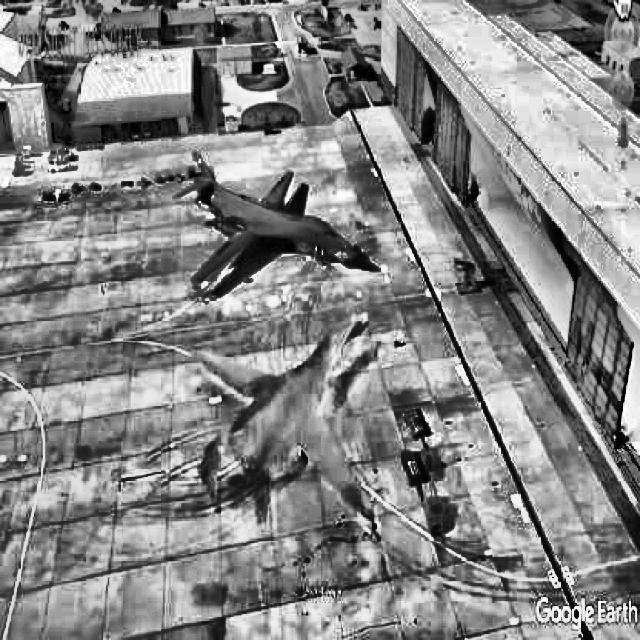B1: (172, 150, 357, 285)
